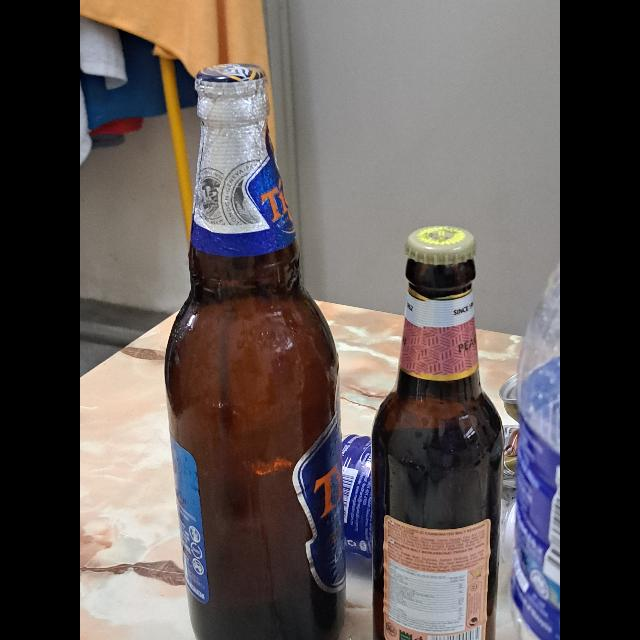garrafa de vidro: (167, 62, 345, 640), (370, 225, 504, 640)
garrafa plástica: (514, 266, 560, 640)
